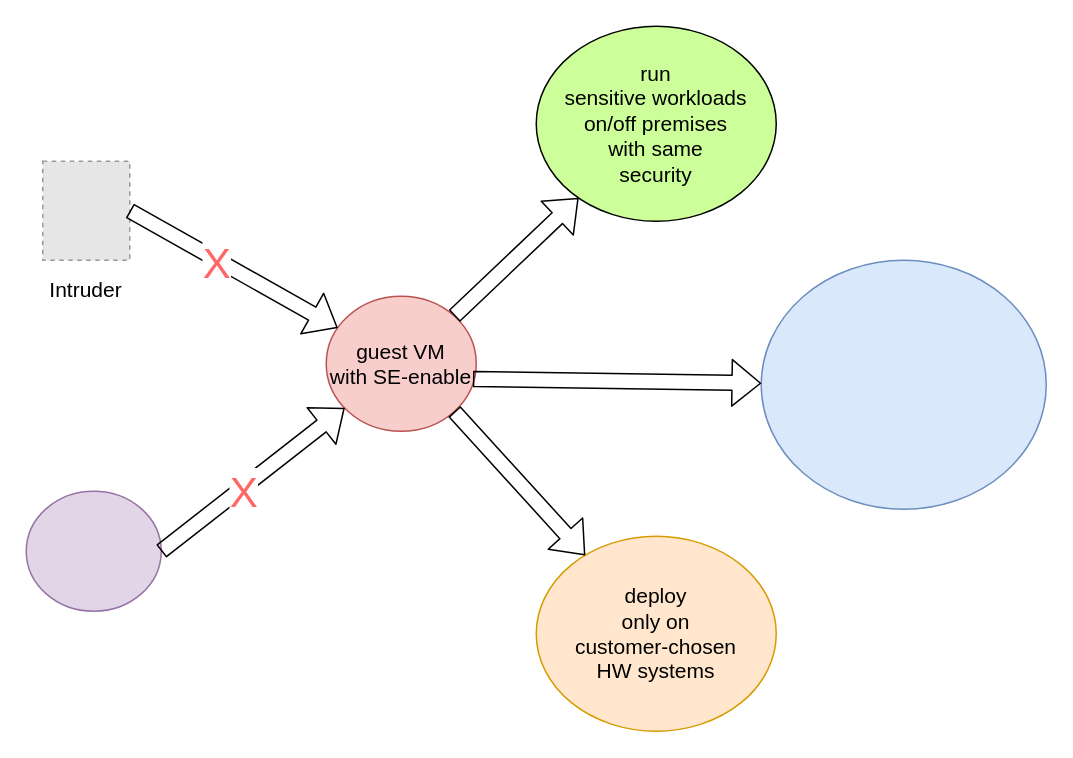
Some shapes in this 1073 by 758 pixel diagram are drawn without their labels. Grey dashed boxes stand in for pictures. The shapes that lost their labels are listed below. From the top down, each one's centre as x and y in pixels, then its label:
At (903,384): "provide technology-enforced security rather than audit-based security.".
At (93,550): "malicious hypervisors".
